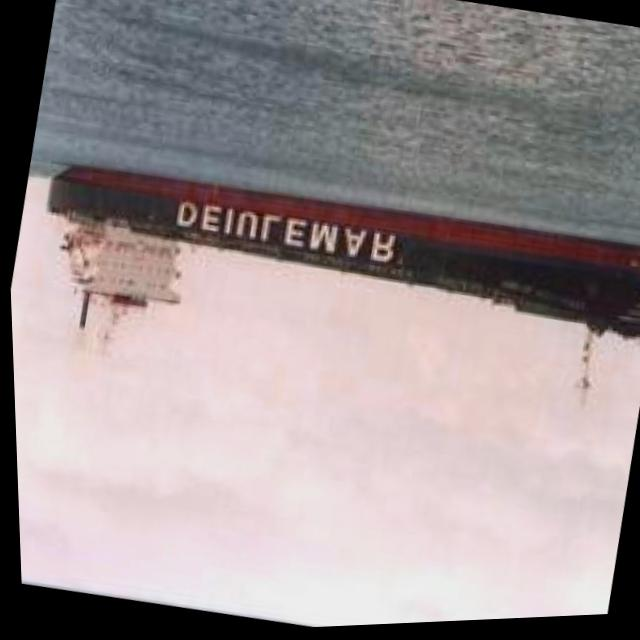ship2: (42, 167, 640, 344)
